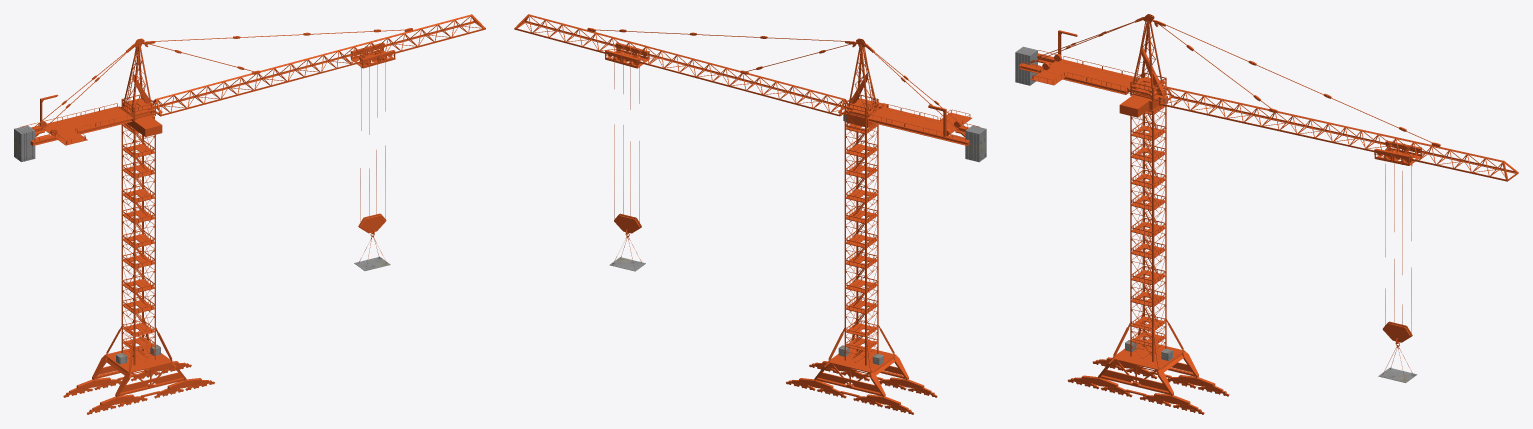
The model's file is okpo_ttc.glb.
3 views of the same model, side by side, from view 1: azimuth 30°, elevation 25°; view 2: azimuth 150°, elevation 25°; view 3: azimuth 330°, elevation 25° (orthographic). The views are drawn at different scales.
Visible parts, largest first — view 1: TTC_Top, TTC_Bottom; view 2: TTC_Top, TTC_Bottom; view 3: TTC_Top, TTC_Bottom.
Boxes of the visible parts, <box> form: TTC_Top: <box>14,14,485,270</box>; TTC_Bottom: <box>63,123,214,414</box>; TTC_Top: <box>514,14,986,271</box>; TTC_Bottom: <box>786,123,937,414</box>; TTC_Top: <box>1015,14,1518,382</box>; TTC_Bottom: <box>1067,105,1229,414</box>.
Size of the model in its own units: 138 by 99.74 by 16.64.
3 materials, 3 textured.
